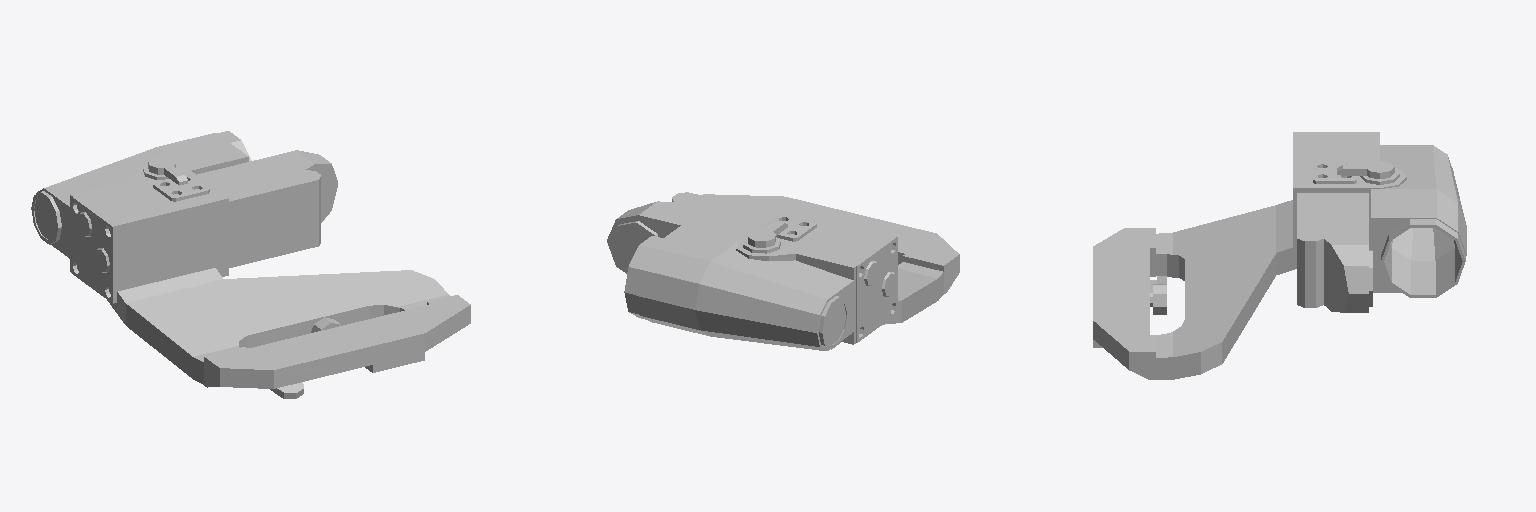
The model's file is obzor_sight.obj.
The picture shows the model from 3 angles: view 1: azimuth 30°, elevation 25°; view 2: azimuth 150°, elevation 25°; view 3: azimuth 270°, elevation 25°; orthographic projection.
Visible parts, largest first — view 1: attachmentModel, overlayModel; view 2: attachmentModel, overlayModel; view 3: attachmentModel.
Boxes of the visible parts, x1=… form: attachmentModel: x1=31, y1=131, x2=470, y2=398; overlayModel: x1=34, y1=196, x2=55, y2=239; attachmentModel: x1=607, y1=192, x2=959, y2=350; overlayModel: x1=824, y1=301, x2=845, y2=344; attachmentModel: x1=1093, y1=132, x2=1466, y2=379.
Size of the model in its own units: 2.4 by 1.11 by 2.78.